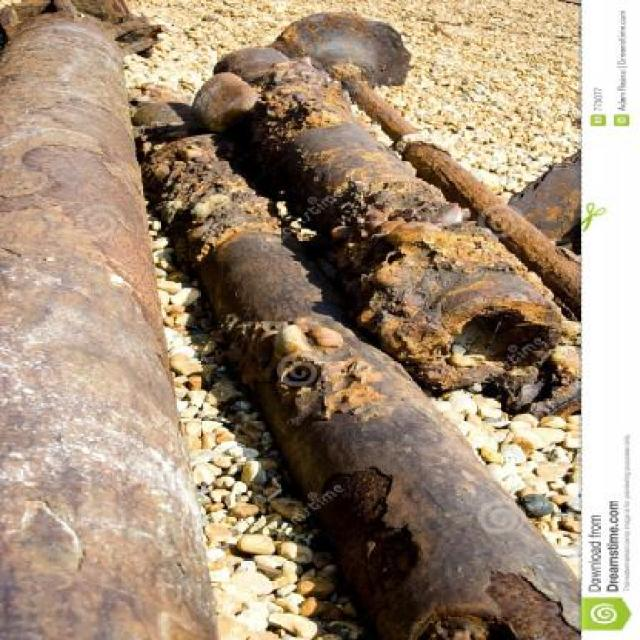corrosion: (0, 8, 582, 635)
